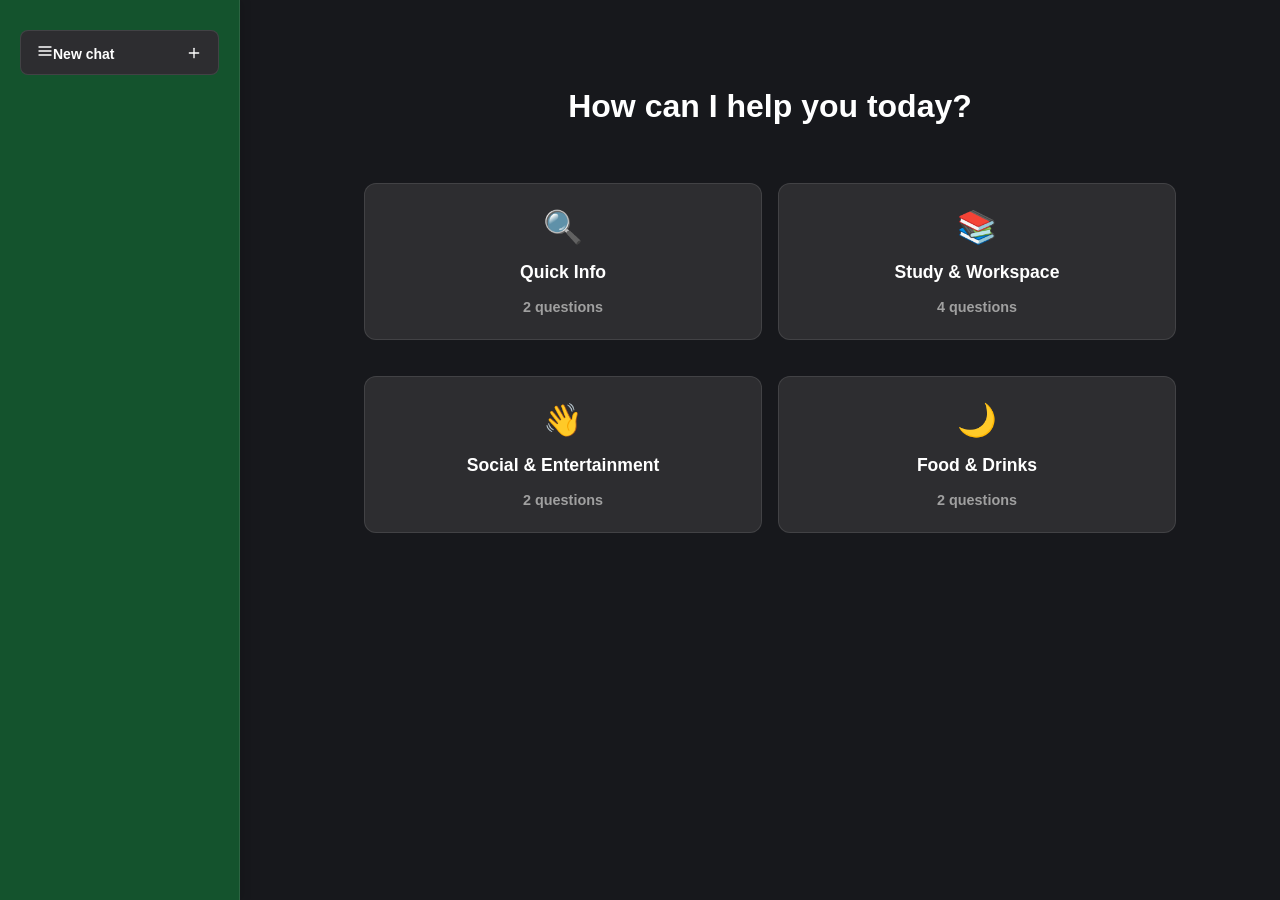
it: ChatPage Component › Category Selection › allows returning to categories view
Click the text "Study & Workspace". click: click(977, 272)
box: [894,262,1059,283]
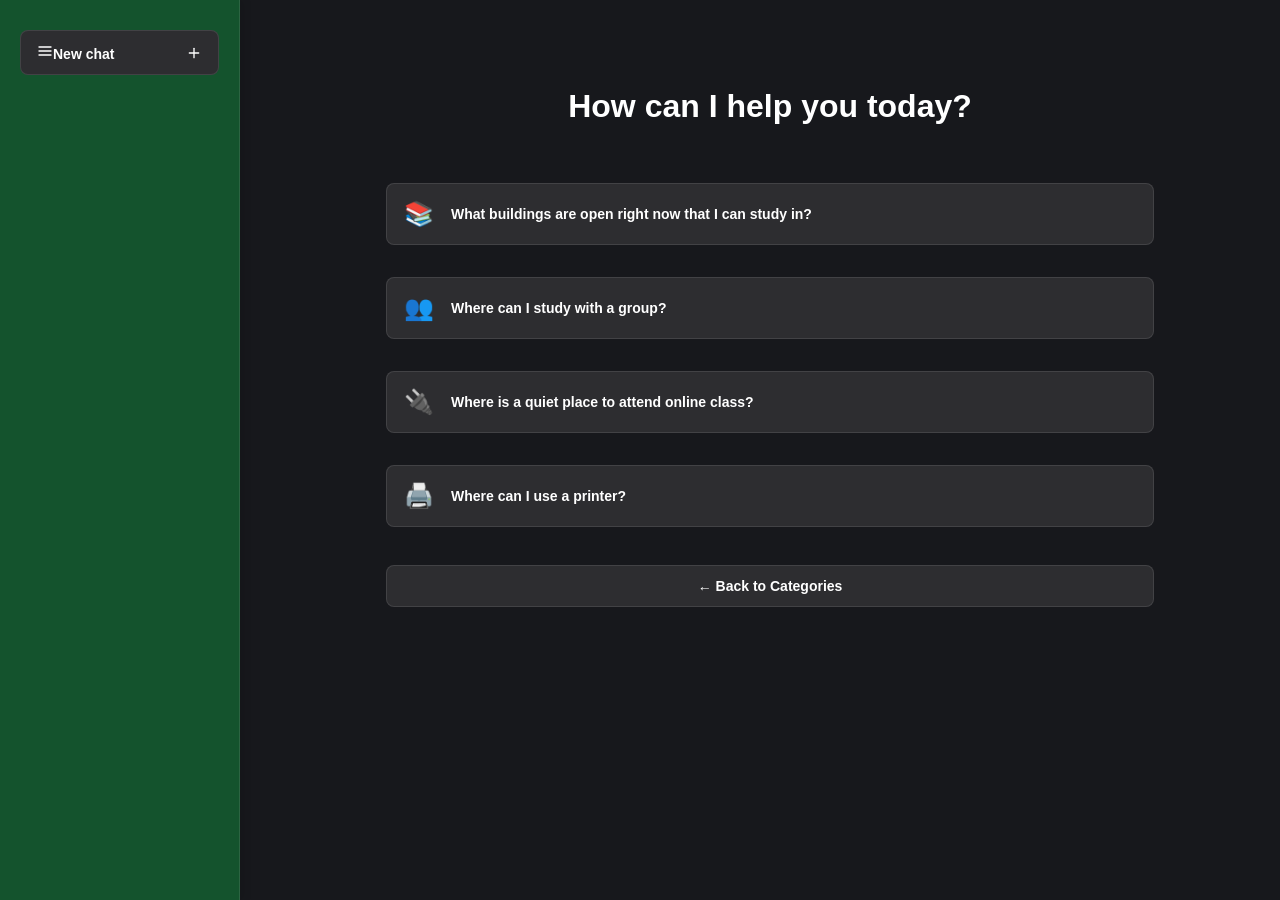
Click the button "← Back to Categories". click: click(770, 586)
box: [386,565,1154,607]
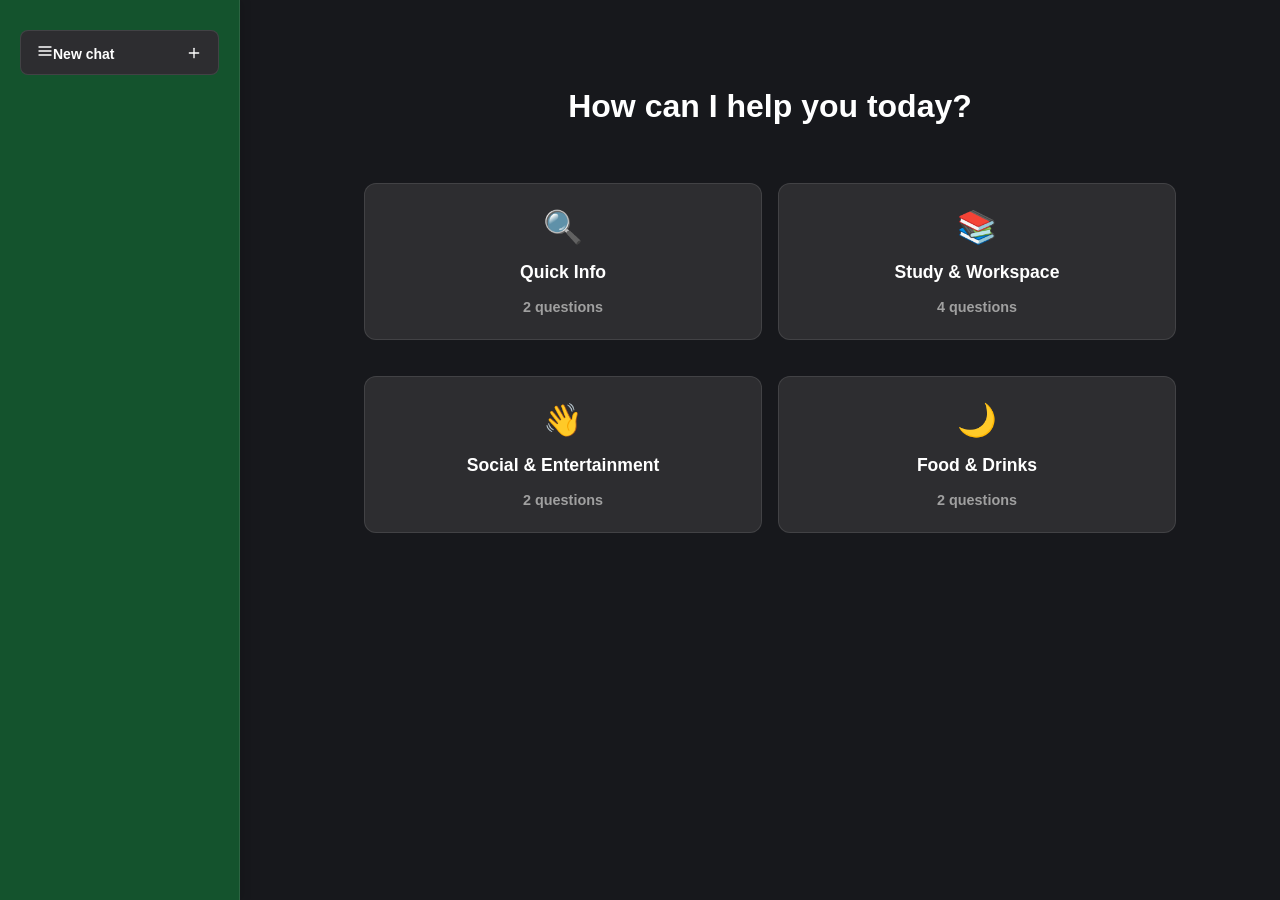
Now the text "Quick Info" is shown, box [520,262,606,283]
Now the text "Food & Drinks" is shown, box [917,455,1037,476]
